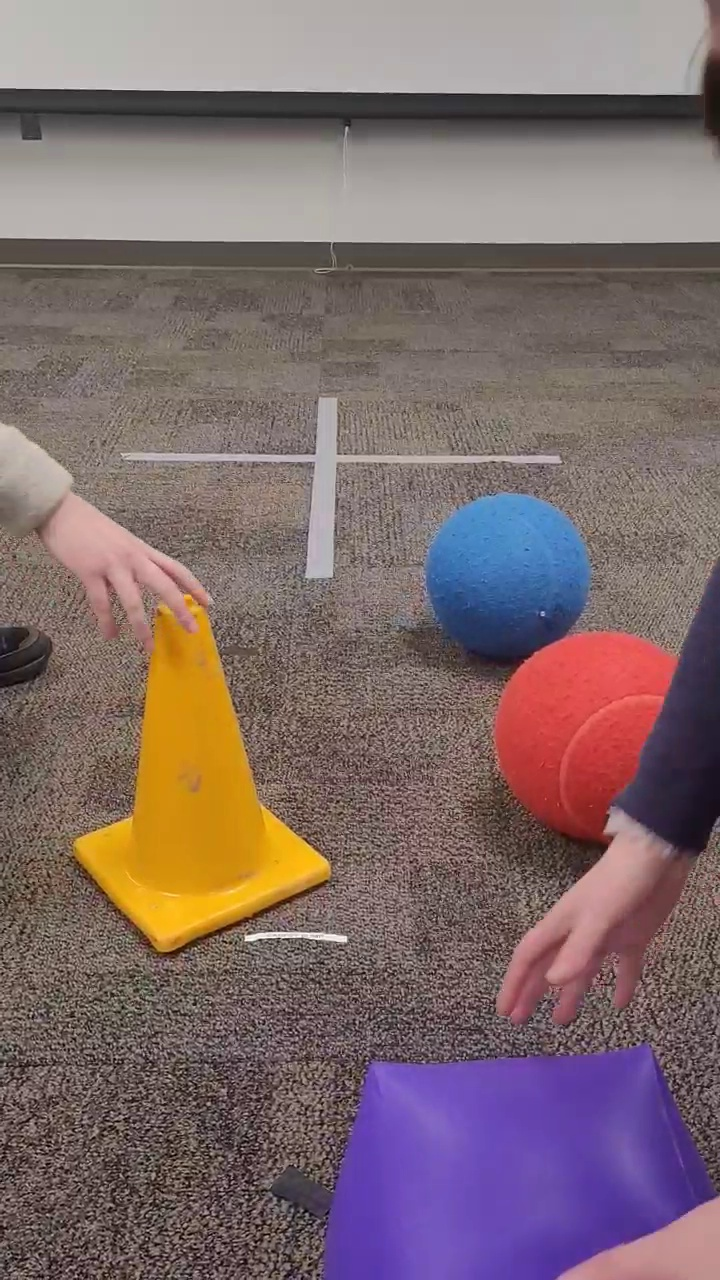ball: (493, 627, 685, 845), (423, 487, 596, 660)
cone: (70, 586, 339, 955)
cube: (322, 1049, 708, 1276)
face: (682, 1, 719, 177)
foot: (1, 616, 56, 692)
hand: (487, 544, 720, 1027), (1, 413, 215, 648), (549, 1193, 720, 1278)
